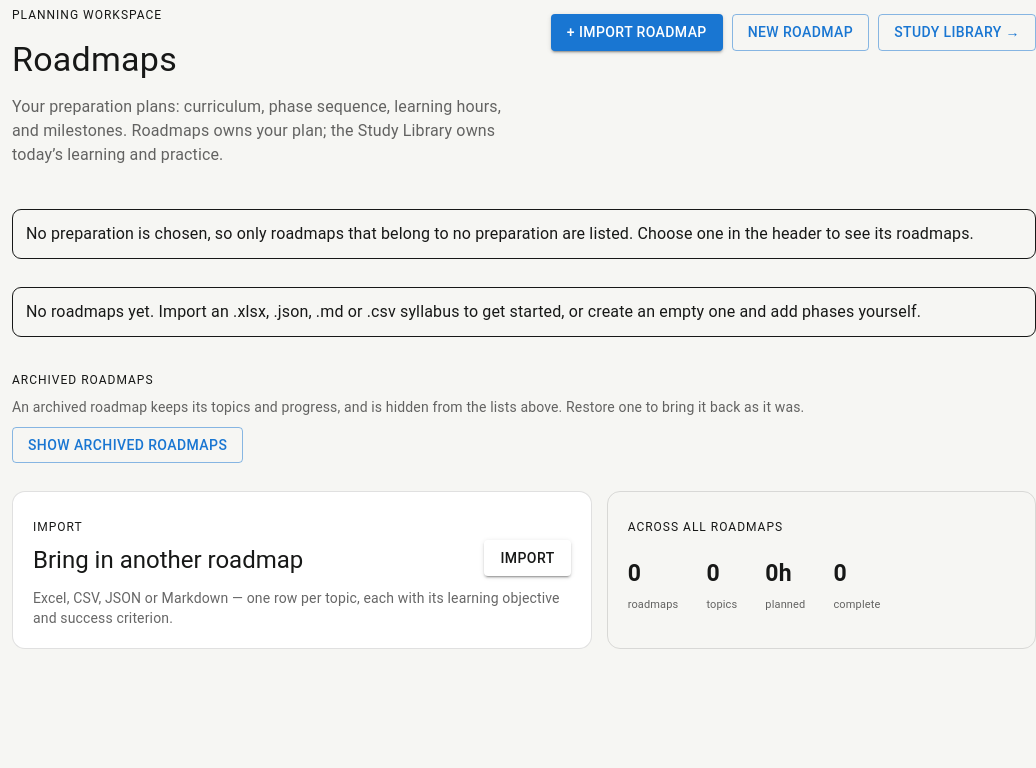
Scenario: RoadmapListPage: archived roadmaps can be restored › says when there is nothing archived
The width and height of the screenshot is (1036, 768).
Click the button "Show archived roadmaps" at [128, 445], box [12, 427, 243, 463]
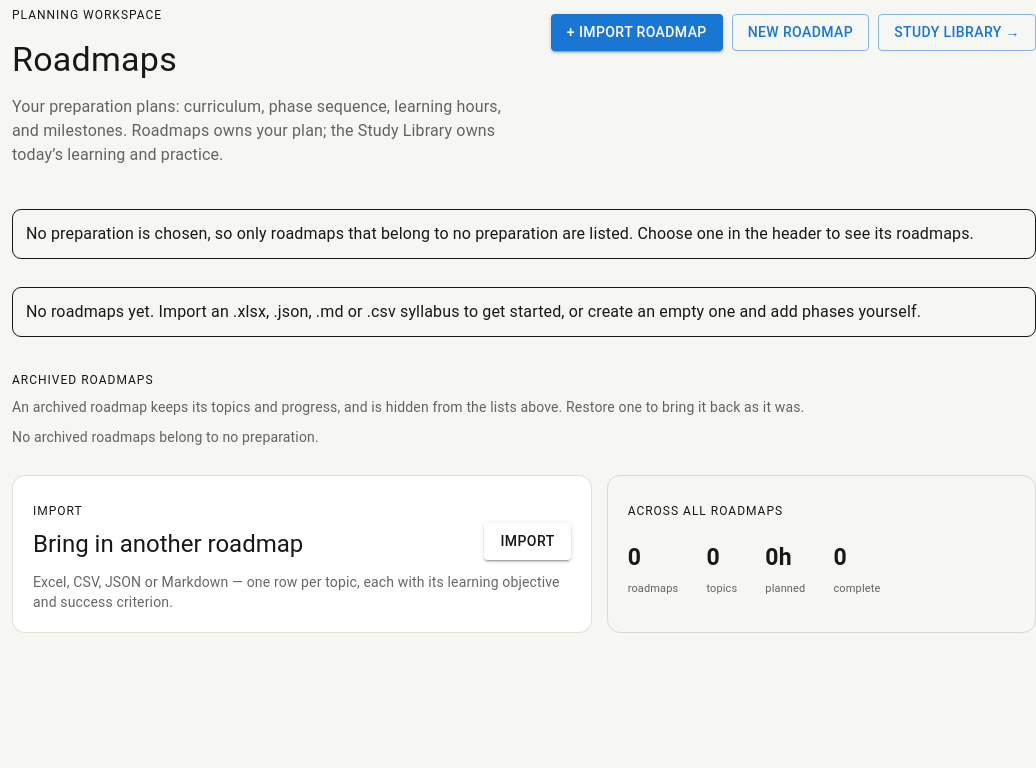
expect the text "No archived roadmaps belong to no preparation." is shown: met, box [12, 429, 319, 445]
